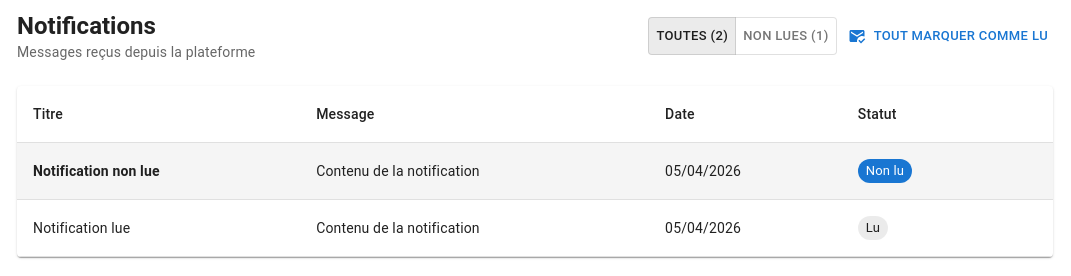
HospitalAdminNotificationsPage › 'Non lues' tab hides read notifications
The width and height of the screenshot is (1071, 276).
Expected: the text "Notification non lue" is shown, [17,142,300,200]
Click the button "Non lues (1)" at (786, 36), box [735,17,837,55]
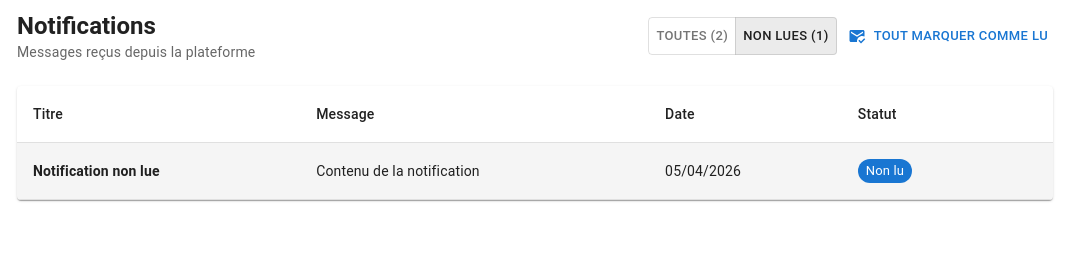
Expected: the text "Notification non lue" is shown, [17,142,300,200]
Expected: the text "Notification lue" is gone
